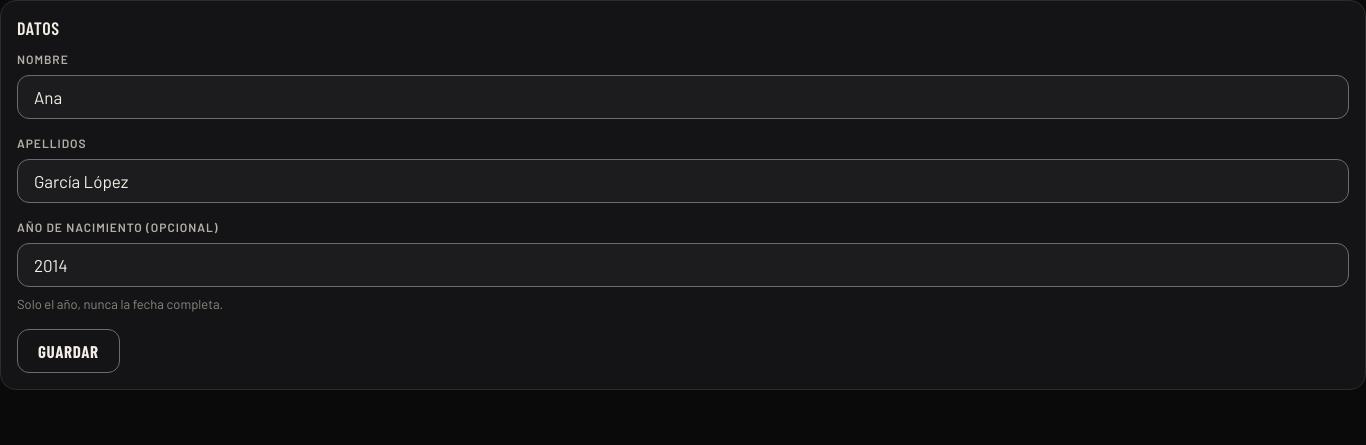
Test case: PersonEditor · una persona que existe › vaciar el año lo manda como null: se guarda «sin año»
Clear the number field labelled "Año de nacimiento (opcional)": (683,265) [17,243,1349,287]
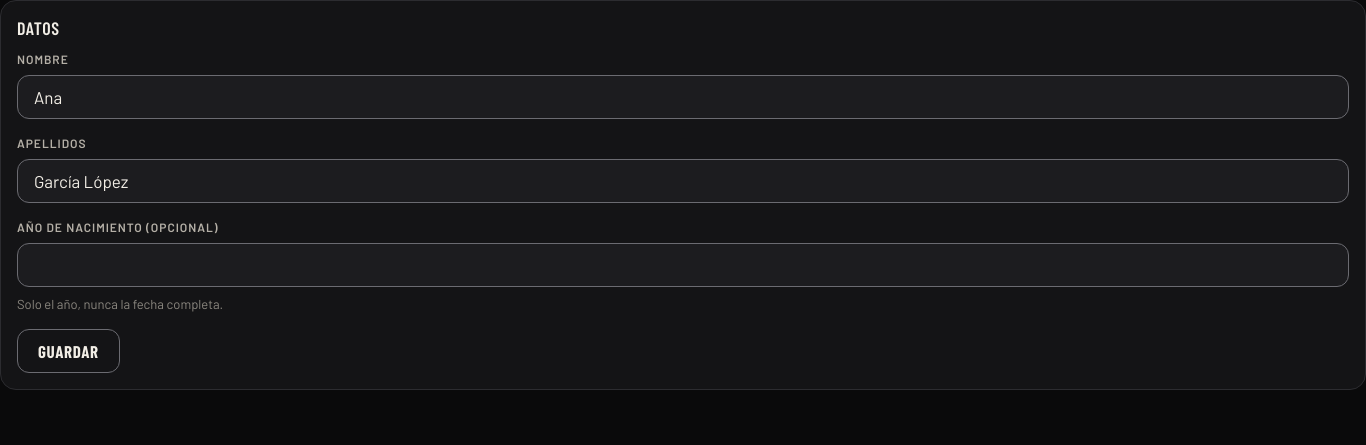
Click the button "Guardar": (68,351) [17,329,120,373]
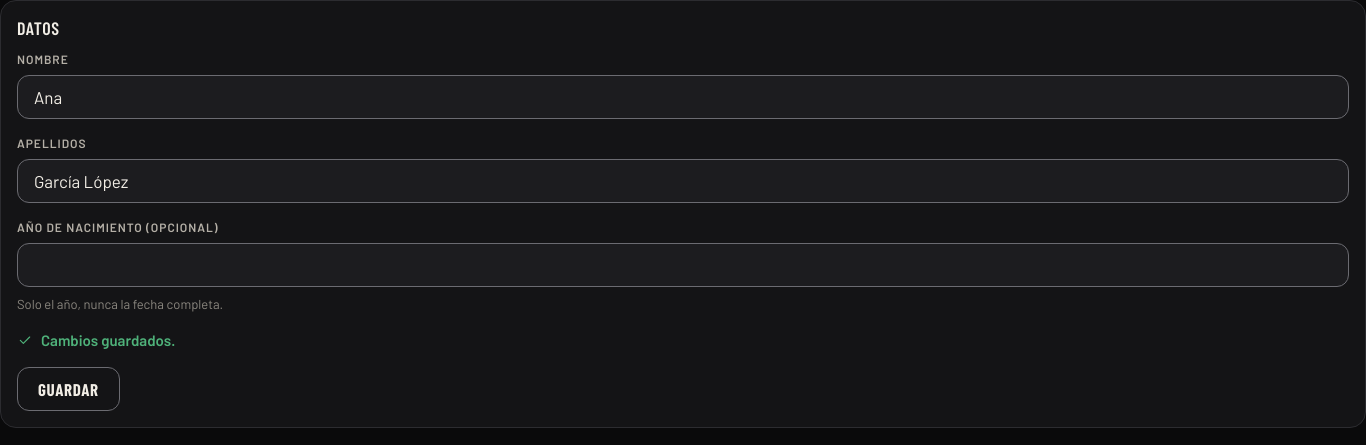
Expected: the text "Cambios guardados." is shown, [17,331,175,349]
